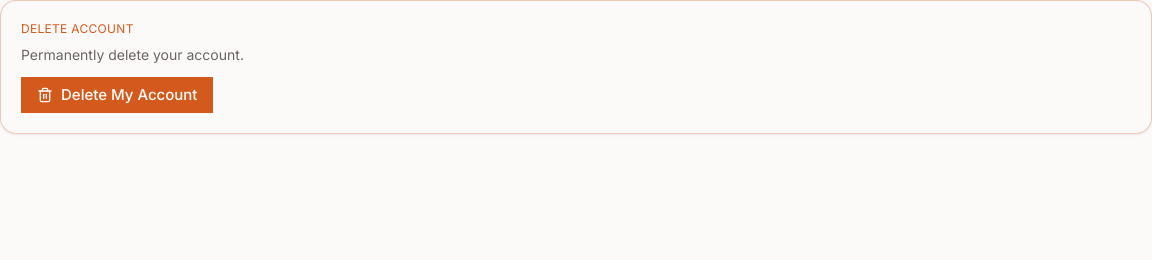
it: AccountDeletion › cancel button returns to initial state
Click the button "Delete My Account" at x=117, y=95, box [21,77,214,113]
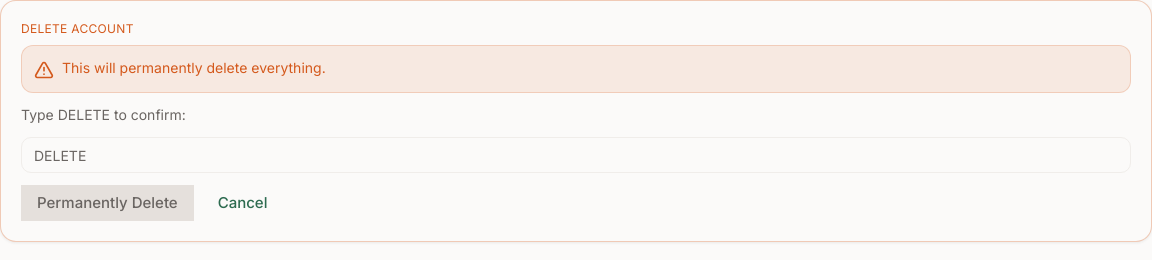
Now the field with placeholder "DELETE" is shown, box [21,137,1131,173]
Click the button "Cancel" at x=243, y=203, box [202,185,284,221]
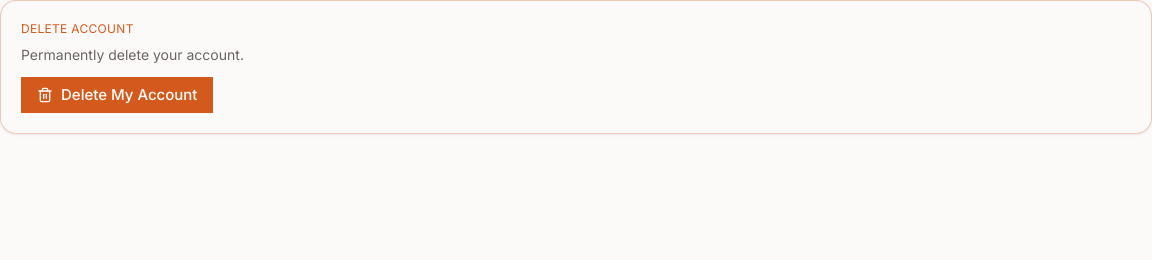
Now the button "Delete My Account" is shown, box [21,77,214,113]
